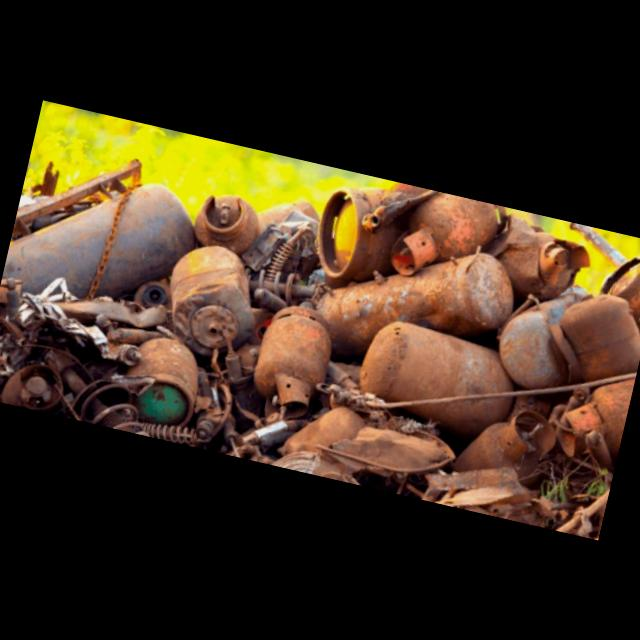Shock Absorber: (263, 229, 305, 283), (131, 417, 203, 444)
